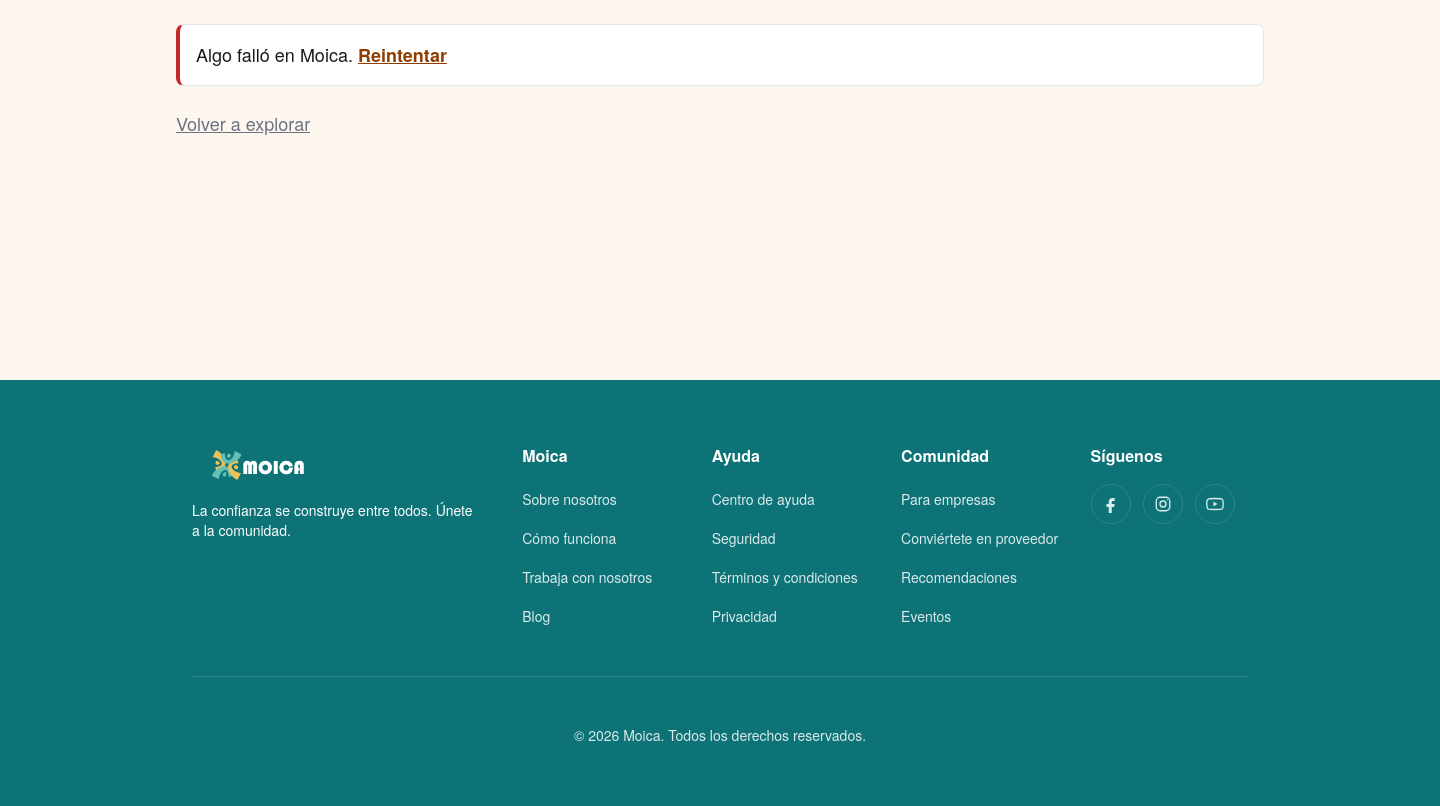
Test: Detalle de servicio › muestra el error y permite reintentar
This screenshot has width=1440, height=806.
Check: the message shows "Algo falló en Moica.", box x1=196 y1=41 x2=353 y2=67
Click the button "Reintentar" at [402, 56], box x1=358 y1=42 x2=447 y2=69
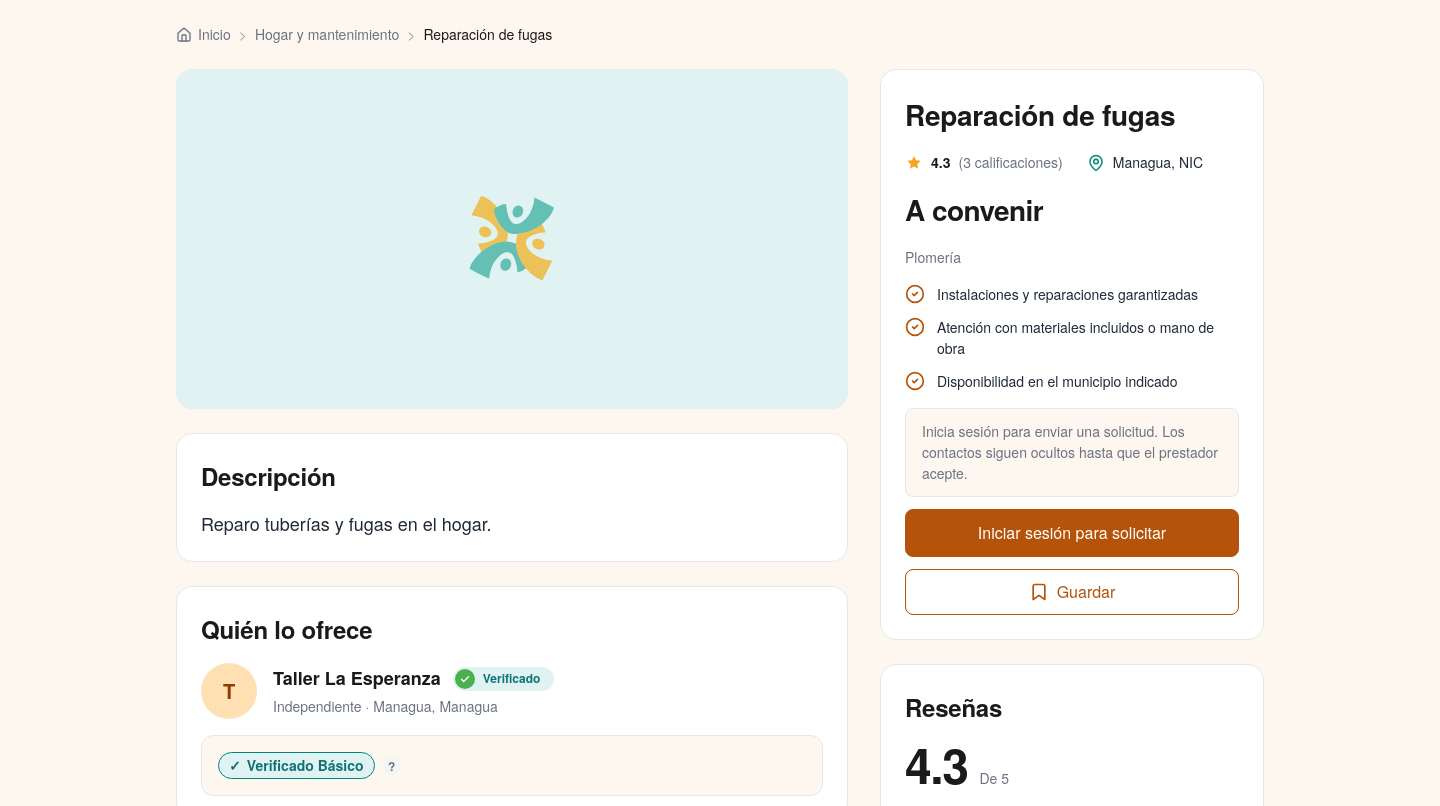
Check: the heading "Reparación de fugas" is shown, box x1=905 y1=94 x2=1175 y2=135
